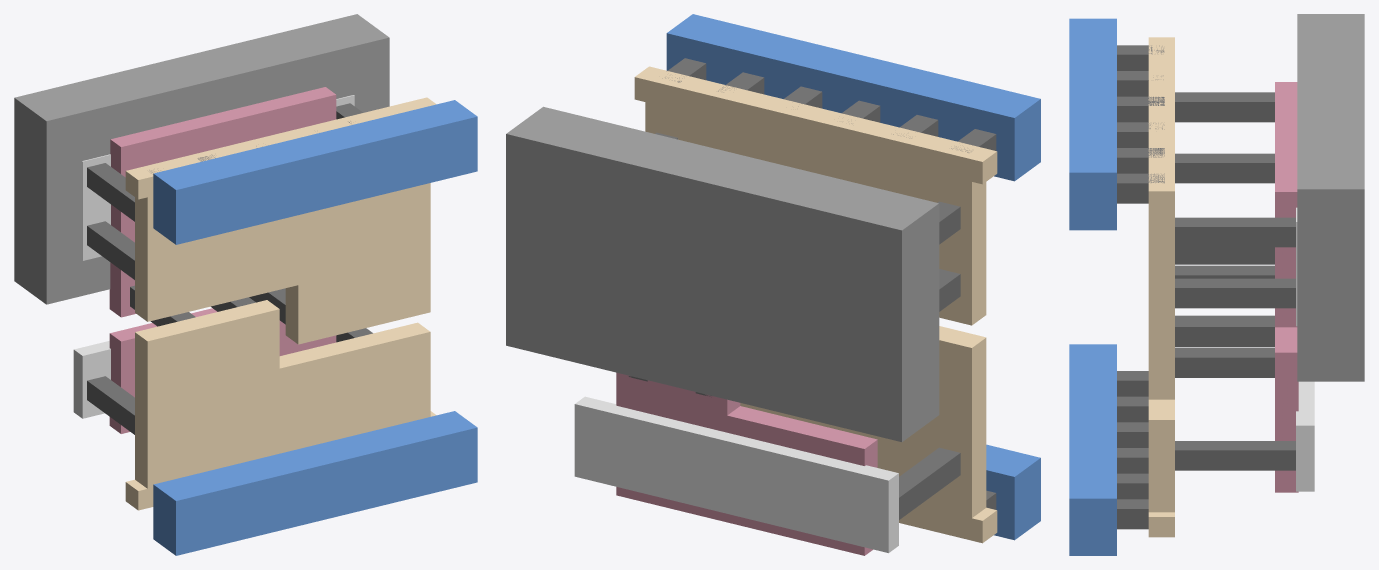
File: sky130_fd_sc_hd__decap_6.gds.gltf
3 renders of one model, left to right at view 1: azimuth 30°, elevation 25°; view 2: azimuth 150°, elevation 25°; view 3: azimuth 270°, elevation 25°, orthographic. The views are drawn at different scales.
Parts seen in each view (by area): view 1: sky130_fd_sc_hd__decap_6_li1, sky130_fd_sc_hd__decap_6_met1, sky130_fd_sc_hd__decap_6_nwell, sky130_fd_sc_hd__decap_6_poly, sky130_fd_sc_hd__decap_6_licon, sky130_fd_sc_hd__decap_6_diff; view 2: sky130_fd_sc_hd__decap_6_nwell, sky130_fd_sc_hd__decap_6_li1, sky130_fd_sc_hd__decap_6_diff, sky130_fd_sc_hd__decap_6_met1, sky130_fd_sc_hd__decap_6_poly, sky130_fd_sc_hd__decap_6_licon, sky130_fd_sc_hd__decap_6_mcon; view 3: sky130_fd_sc_hd__decap_6_licon, sky130_fd_sc_hd__decap_6_nwell, sky130_fd_sc_hd__decap_6_met1, sky130_fd_sc_hd__decap_6_li1, sky130_fd_sc_hd__decap_6_mcon, sky130_fd_sc_hd__decap_6_poly, sky130_fd_sc_hd__decap_6_diff.
Boxes of the visible parts, x1,y1,x2,y2 form: sky130_fd_sc_hd__decap_6_li1: (125, 97, 436, 510); sky130_fd_sc_hd__decap_6_met1: (153, 100, 477, 555); sky130_fd_sc_hd__decap_6_nwell: (14, 14, 389, 304); sky130_fd_sc_hd__decap_6_poly: (109, 87, 336, 433); sky130_fd_sc_hd__decap_6_licon: (87, 103, 372, 434); sky130_fd_sc_hd__decap_6_diff: (73, 95, 354, 418); sky130_fd_sc_hd__decap_6_nwell: (506, 106, 939, 441); sky130_fd_sc_hd__decap_6_li1: (634, 66, 997, 543); sky130_fd_sc_hd__decap_6_diff: (574, 396, 898, 553); sky130_fd_sc_hd__decap_6_met1: (666, 14, 1040, 540); sky130_fd_sc_hd__decap_6_poly: (616, 372, 877, 555); sky130_fd_sc_hd__decap_6_licon: (628, 132, 960, 519); sky130_fd_sc_hd__decap_6_mcon: (662, 58, 996, 509); sky130_fd_sc_hd__decap_6_licon: (1175, 92, 1295, 470); sky130_fd_sc_hd__decap_6_nwell: (1297, 14, 1364, 381); sky130_fd_sc_hd__decap_6_met1: (1069, 18, 1116, 555); sky130_fd_sc_hd__decap_6_li1: (1148, 37, 1174, 537); sky130_fd_sc_hd__decap_6_mcon: (1117, 45, 1164, 529); sky130_fd_sc_hd__decap_6_poly: (1275, 82, 1298, 492); sky130_fd_sc_hd__decap_6_diff: (1296, 207, 1314, 491).
Bounding box in the file's own units: 3.14 × 3.2 × 2.24.
